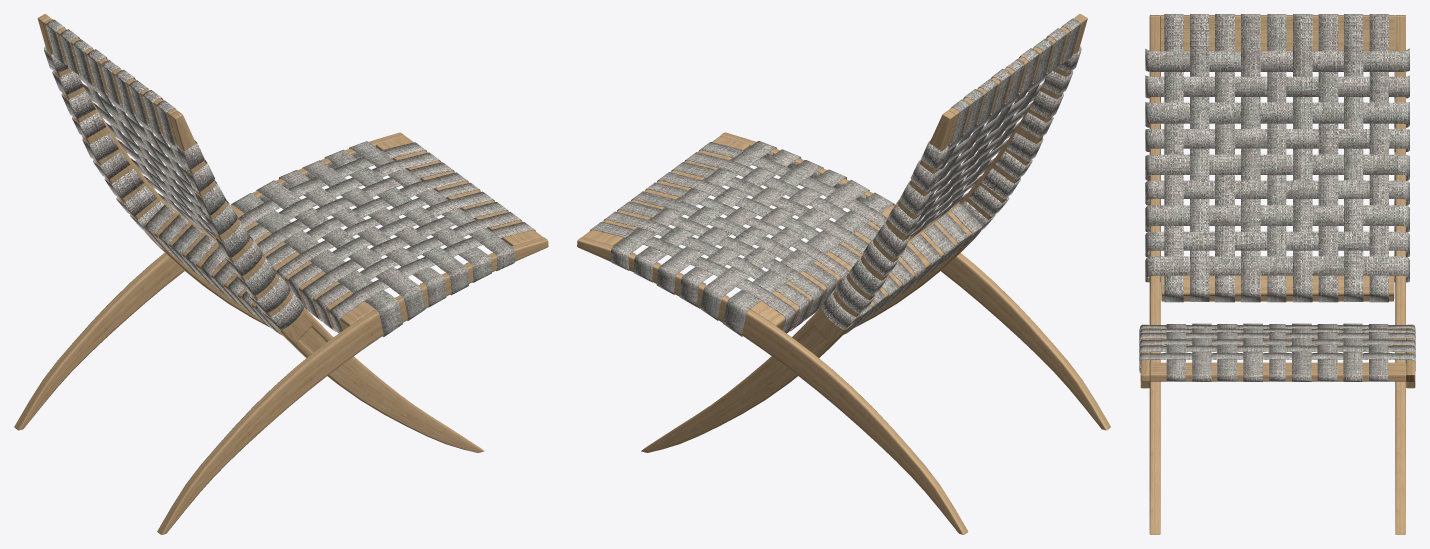
The model's file is foldablechair.fbx.
The picture shows the model from 3 angles, left to right: view 1: azimuth 30°, elevation 25°; view 2: azimuth 150°, elevation 25°; view 3: azimuth 270°, elevation 25°; orthographic projection. The views are drawn at different scales.
Parts seen in each view (by area): view 1: untitled:Mesh; view 2: untitled:Mesh; view 3: untitled:Mesh.
Part boxes in pixels (box(x1,y1,x2,y2)): untitled:Mesh: box(14, 14, 548, 534); untitled:Mesh: box(577, 14, 1110, 534); untitled:Mesh: box(1139, 14, 1415, 534).
Size of the model in its own units: 8.19 by 8.28 by 5.41.
Materials: 4 (4 with a texture image).
